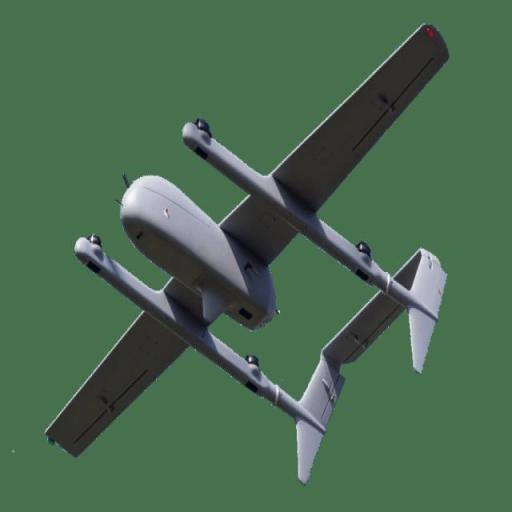uav: (22, 15, 480, 458)
